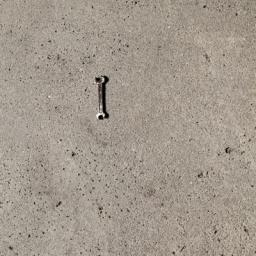FOD: (90, 74, 112, 124)
